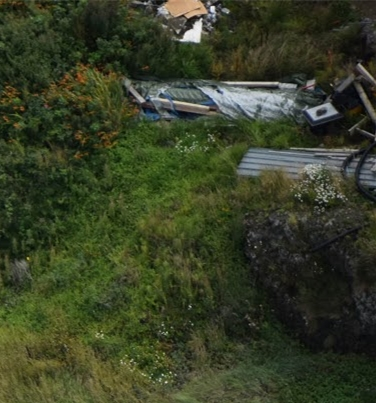cuboid: (232, 138, 376, 191)
together_barrel: (114, 65, 376, 139), (126, 1, 230, 44)
tube: (333, 140, 376, 195)
